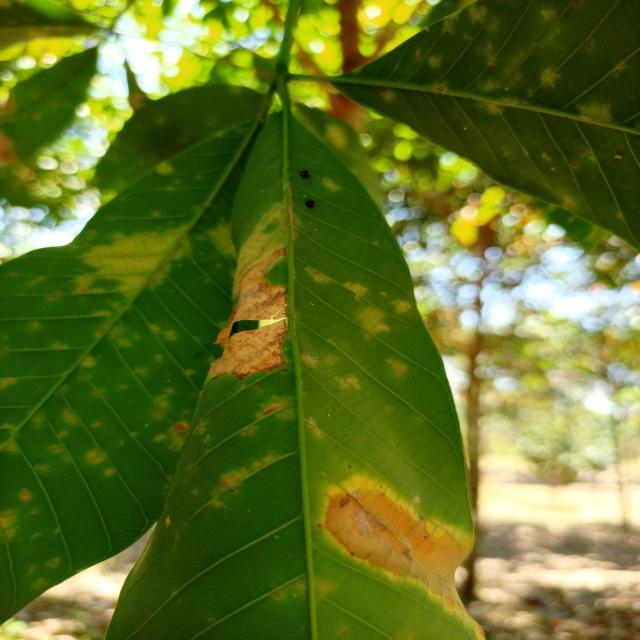Leaf-Blight: (322, 486, 475, 630), (206, 244, 288, 380)
